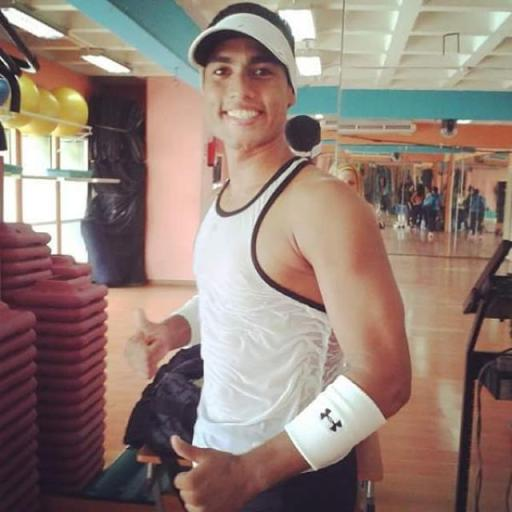Under Armour: (318, 408, 344, 434)
